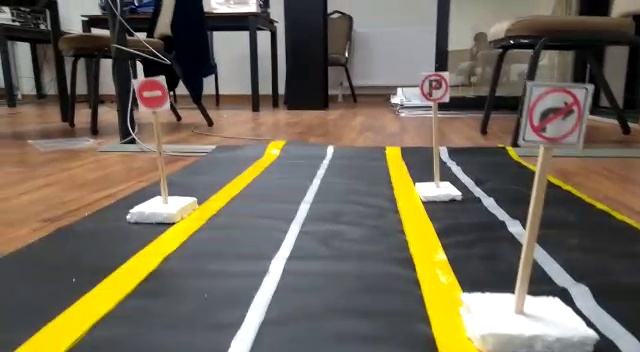girisi_olmayan_yol: (134, 76, 169, 108)
park_yapilmaz: (421, 72, 450, 103)
saga_donulmez: (529, 83, 581, 147)
